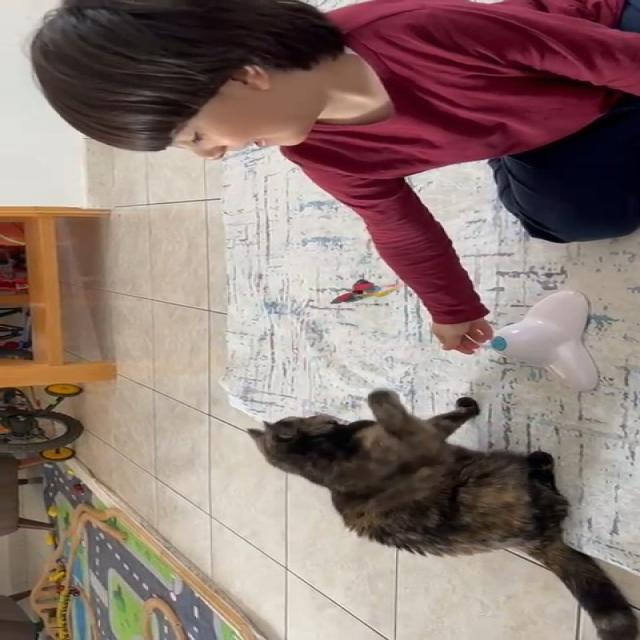authorized: (245, 388, 639, 639)
